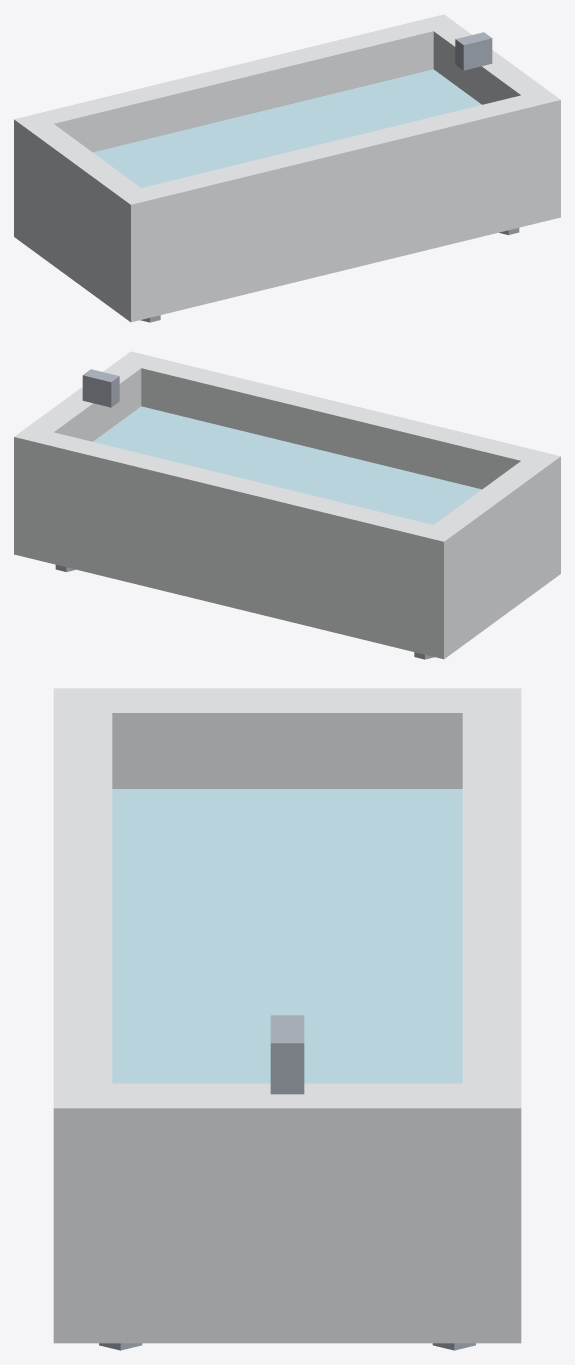
File: bathtub.glb
3 views of the same model, one above another, from view 1: azimuth 30°, elevation 25°; view 2: azimuth 150°, elevation 25°; view 3: azimuth 270°, elevation 25° (orthographic). The views are drawn at different scales.
Visible parts, largest first — view 1: bathtub; view 2: bathtub; view 3: bathtub.
Boxes of the visible parts, <box> form: bathtub: <box>14,14,560,322</box>; bathtub: <box>14,351,560,659</box>; bathtub: <box>53,688,521,1350</box>.
Bounding box in the file's own units: 1.19 × 0.42 × 0.56.
Materials: 1 (1 with a texture image).
